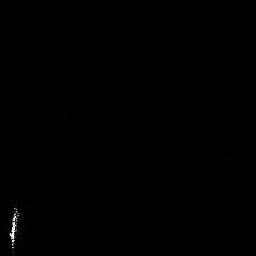ship: (6, 204, 24, 250)
